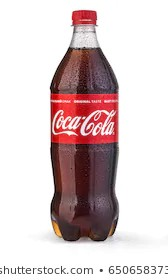coke-bottle-2l: (50, 8, 122, 241)
